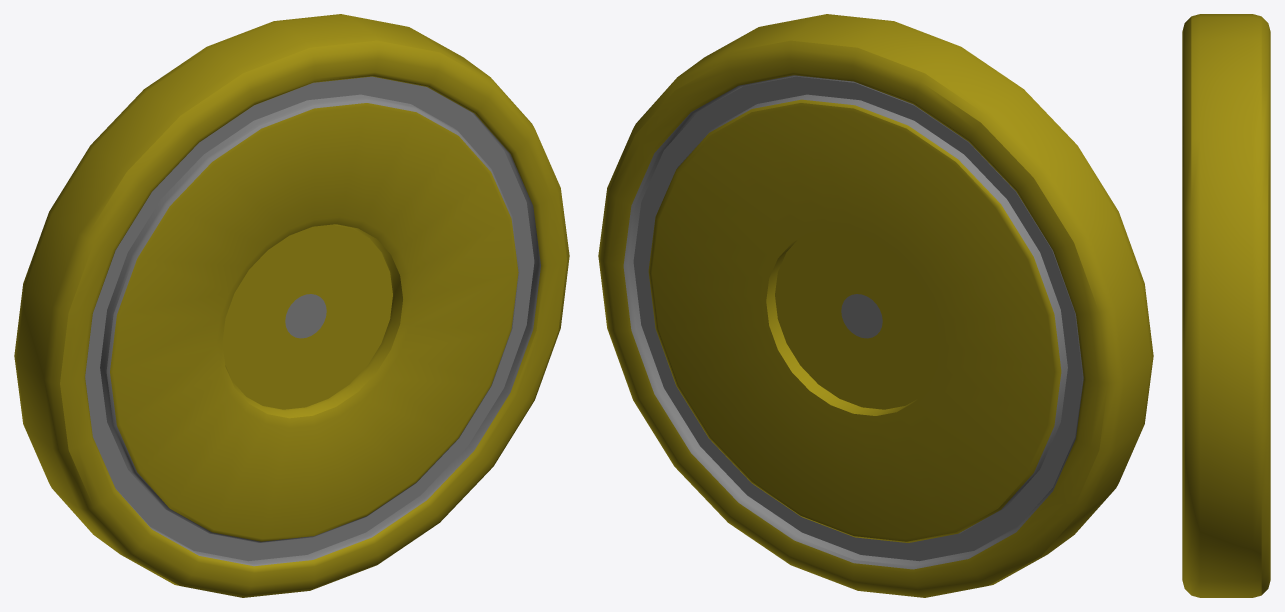
The model's file is Moeda.fbx.
3 renders of one model, left to right at view 1: azimuth 30°, elevation 25°; view 2: azimuth 150°, elevation 25°; view 3: azimuth 270°, elevation 25°, orthographic. The views are drawn at different scales.
Parts seen in each view (by area): view 1: Circle; view 2: Circle; view 3: Circle.
Part boxes in pixels (<box>): Circle: <box>14,14,569,597</box>; Circle: <box>598,14,1153,597</box>; Circle: <box>1182,14,1270,597</box>.
Size of the model in its own units: 69.45 by 69.45 by 10.48.
